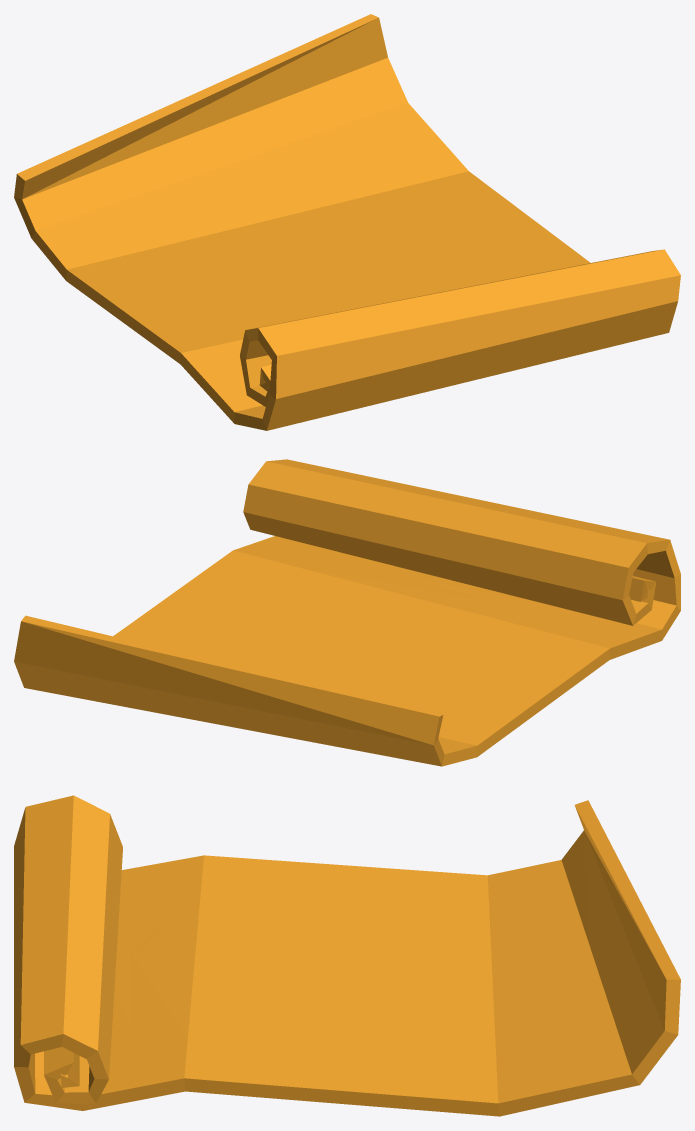
File: SM_Scroll_Open.fbx
3 renders of one model, top to bottom at view 1: azimuth 30°, elevation 25°; view 2: azimuth 150°, elevation 25°; view 3: azimuth 270°, elevation 25°, orthographic. The views are drawn at different scales.
Visible parts, largest first — view 1: scroll-open; view 2: scroll-open; view 3: scroll-open.
Part boxes in pixels (x1=…): scroll-open: x1=14, y1=14, x2=680, y2=430; scroll-open: x1=14, y1=459, x2=680, y2=766; scroll-open: x1=14, y1=795, x2=680, y2=1116.
Bounding box in the file's own units: 0.2688 × 0.0709 × 0.3237.
